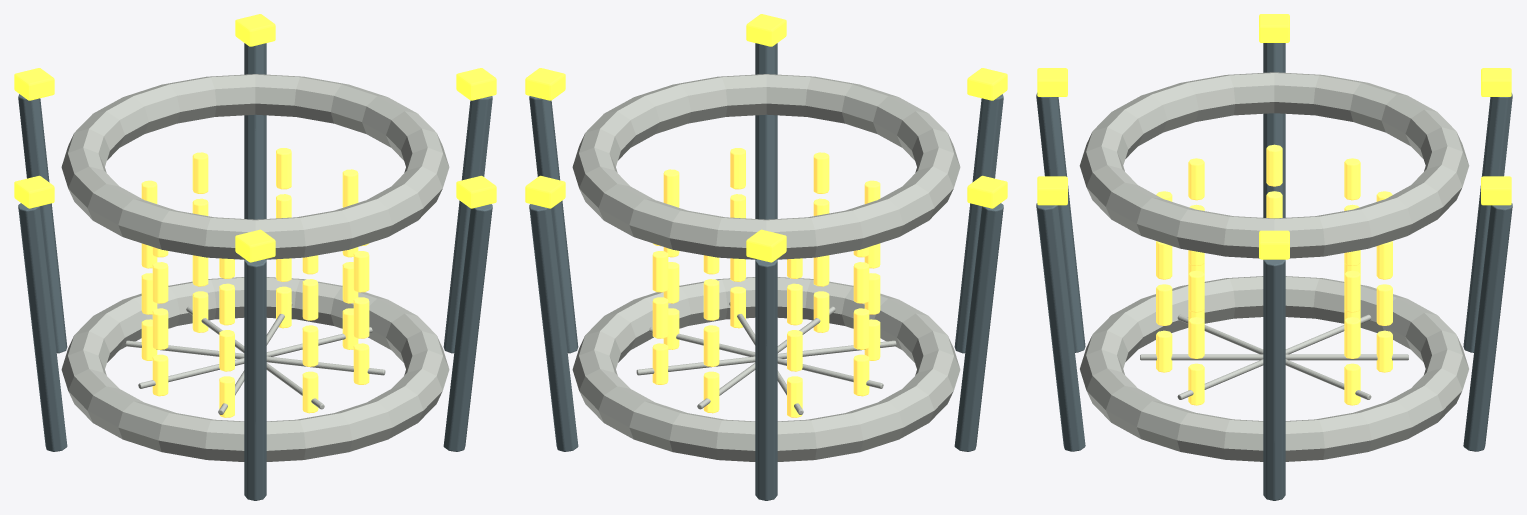
The model's file is micro_reactor_core_d2.glb.
The picture shows the model from 3 angles, left to right: view 1: azimuth 30°, elevation 25°; view 2: azimuth 150°, elevation 25°; view 3: azimuth 270°, elevation 25°; orthographic projection.
Parts seen in each view (by area): view 1: Core vessel upper.005, Core vessel lower.005, Bent control rod.011, Bent control rod.009, Bent control rod.010, Bent control rod.008, Bent control rod.006, Bent control rod.007, Dislodged rod cap.010, Dislodged rod cap.011, Dislodged rod cap.006, Dislodged rod cap.007 (+22 smaller); view 2: Core vessel upper.005, Core vessel lower.005, Bent control rod.007, Bent control rod.008, Bent control rod.009, Bent control rod.010, Bent control rod.006, Bent control rod.011, Dislodged rod cap.007, Dislodged rod cap.008, Dislodged rod cap.006, Dislodged rod cap.011 (+22 smaller); view 3: Core vessel upper.005, Core vessel lower.005, Bent control rod.007, Bent control rod.011, Bent control rod.006, Bent control rod.008, Bent control rod.010, Bent control rod.009, Dislodged rod cap.006, Dislodged rod cap.007, Dislodged rod cap.011, Dislodged rod cap.008 (+19 smaller).
Boxes of the visible parts, x1,y1,x2,y2 form: Core vessel upper.005: (61, 74, 449, 259); Core vessel lower.005: (61, 277, 449, 461); Bent control rod.011: (443, 204, 492, 451); Bent control rod.009: (18, 203, 67, 451); Bent control rod.010: (244, 259, 266, 500); Bent control rod.008: (18, 94, 67, 353); Bent control rod.006: (443, 96, 492, 353); Bent control rod.007: (244, 43, 266, 260); Dislodged rod cap.010: (235, 229, 275, 262); Dislodged rod cap.011: (456, 175, 496, 208); Dislodged rod cap.006: (456, 68, 496, 100); Dislodged rod cap.007: (235, 14, 275, 46); Core vessel upper.005: (572, 74, 960, 259); Core vessel lower.005: (572, 277, 960, 461); Bent control rod.007: (529, 204, 578, 451); Bent control rod.008: (755, 259, 777, 500); Bent control rod.009: (954, 203, 1003, 451); Bent control rod.010: (954, 94, 1003, 353); Bent control rod.006: (529, 96, 578, 353); Bent control rod.011: (755, 43, 777, 260); Dislodged rod cap.007: (525, 175, 565, 208); Dislodged rod cap.008: (746, 229, 786, 262); Dislodged rod cap.006: (525, 68, 565, 100); Dislodged rod cap.011: (746, 14, 786, 46); Core vessel upper.005: (1079, 72, 1469, 258); Core vessel lower.005: (1080, 276, 1468, 461); Bent control rod.007: (1463, 203, 1512, 451); Bent control rod.011: (1036, 203, 1085, 451); Bent control rod.006: (1263, 259, 1285, 500); Bent control rod.008: (1463, 93, 1512, 352); Bent control rod.010: (1036, 93, 1085, 352); Bent control rod.009: (1263, 43, 1285, 217); Dislodged rod cap.006: (1259, 230, 1289, 259); Dislodged rod cap.007: (1481, 176, 1511, 205); Dislodged rod cap.011: (1037, 176, 1067, 205); Dislodged rod cap.008: (1481, 68, 1511, 96).
Size of the model in its own units: 4.27 by 2.33 by 3.72.
